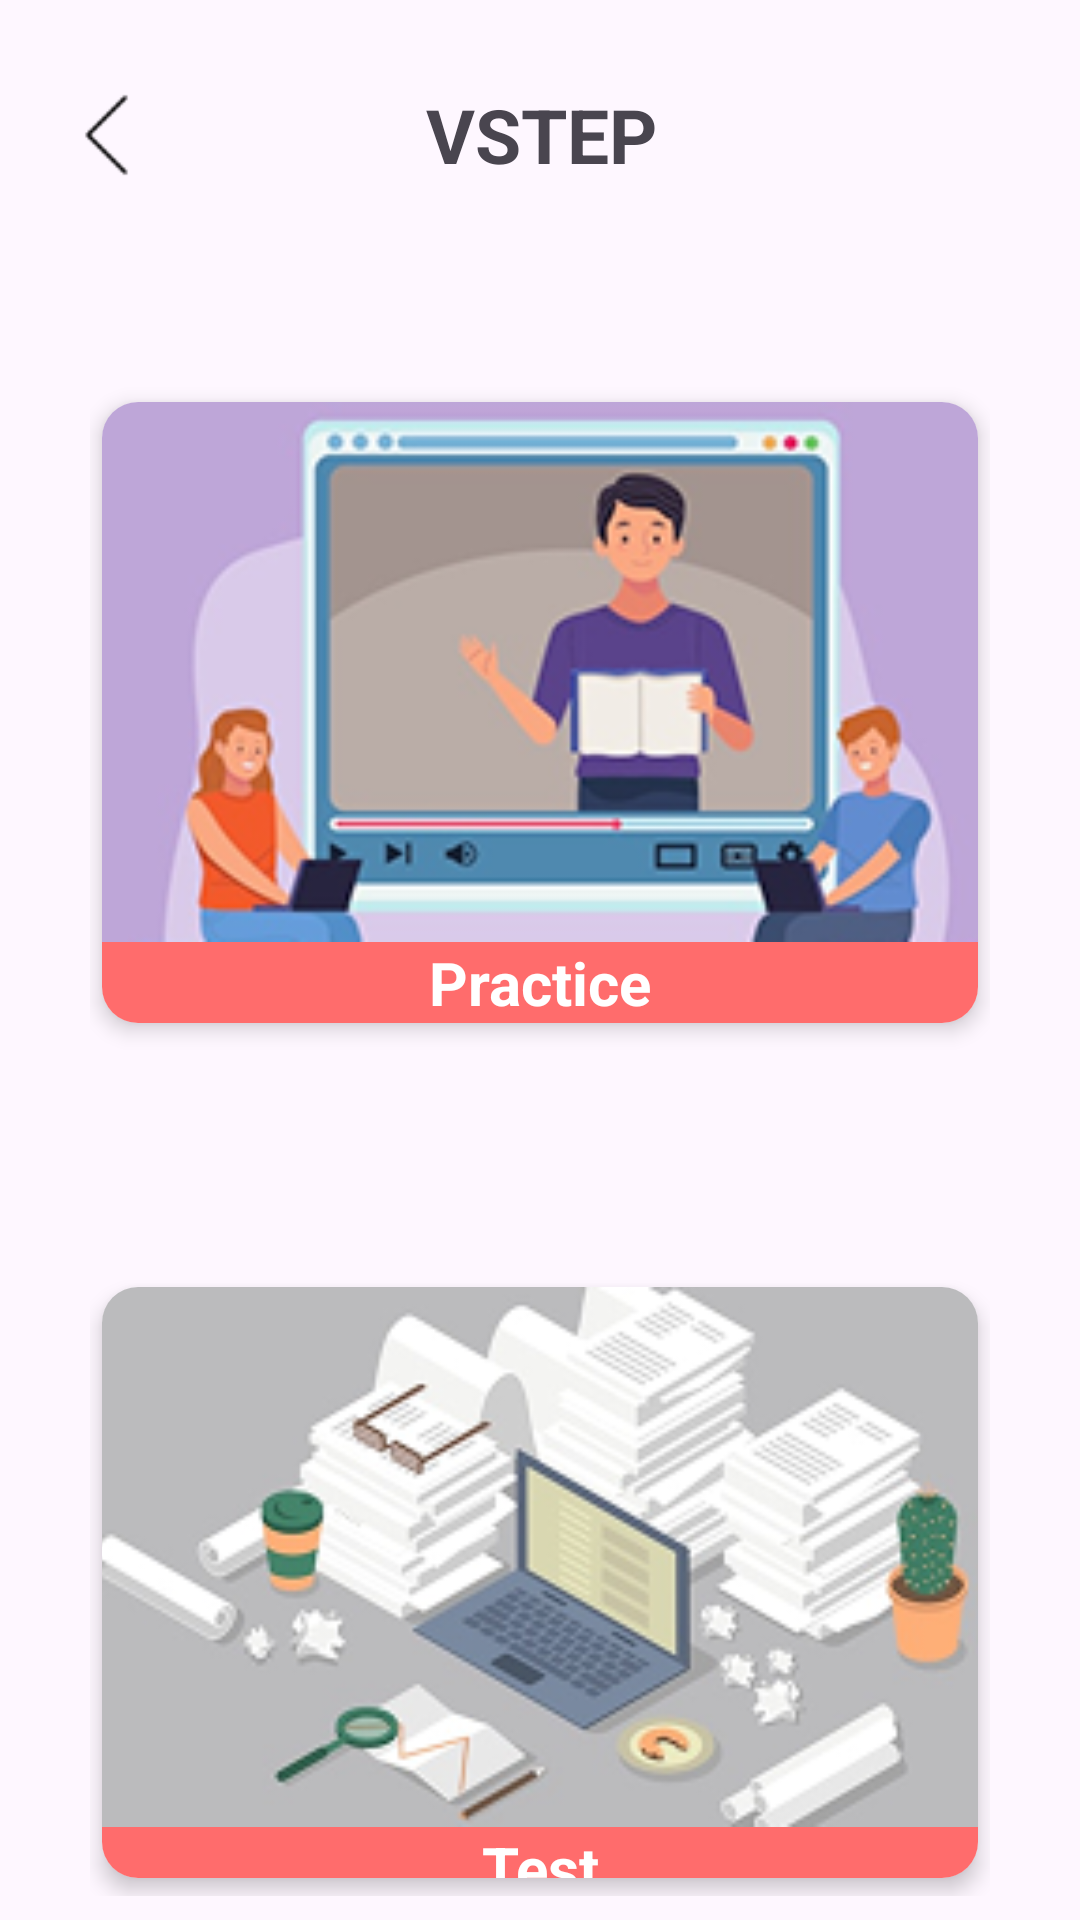

Where icons sit on this 1080*1920 app screen, as bbox(x1, y1, x2, y2):
back: bbox(85, 95, 128, 175)
